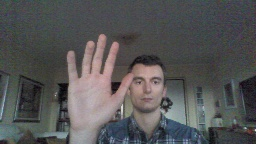Mano_aperta: (62, 31, 137, 130)
